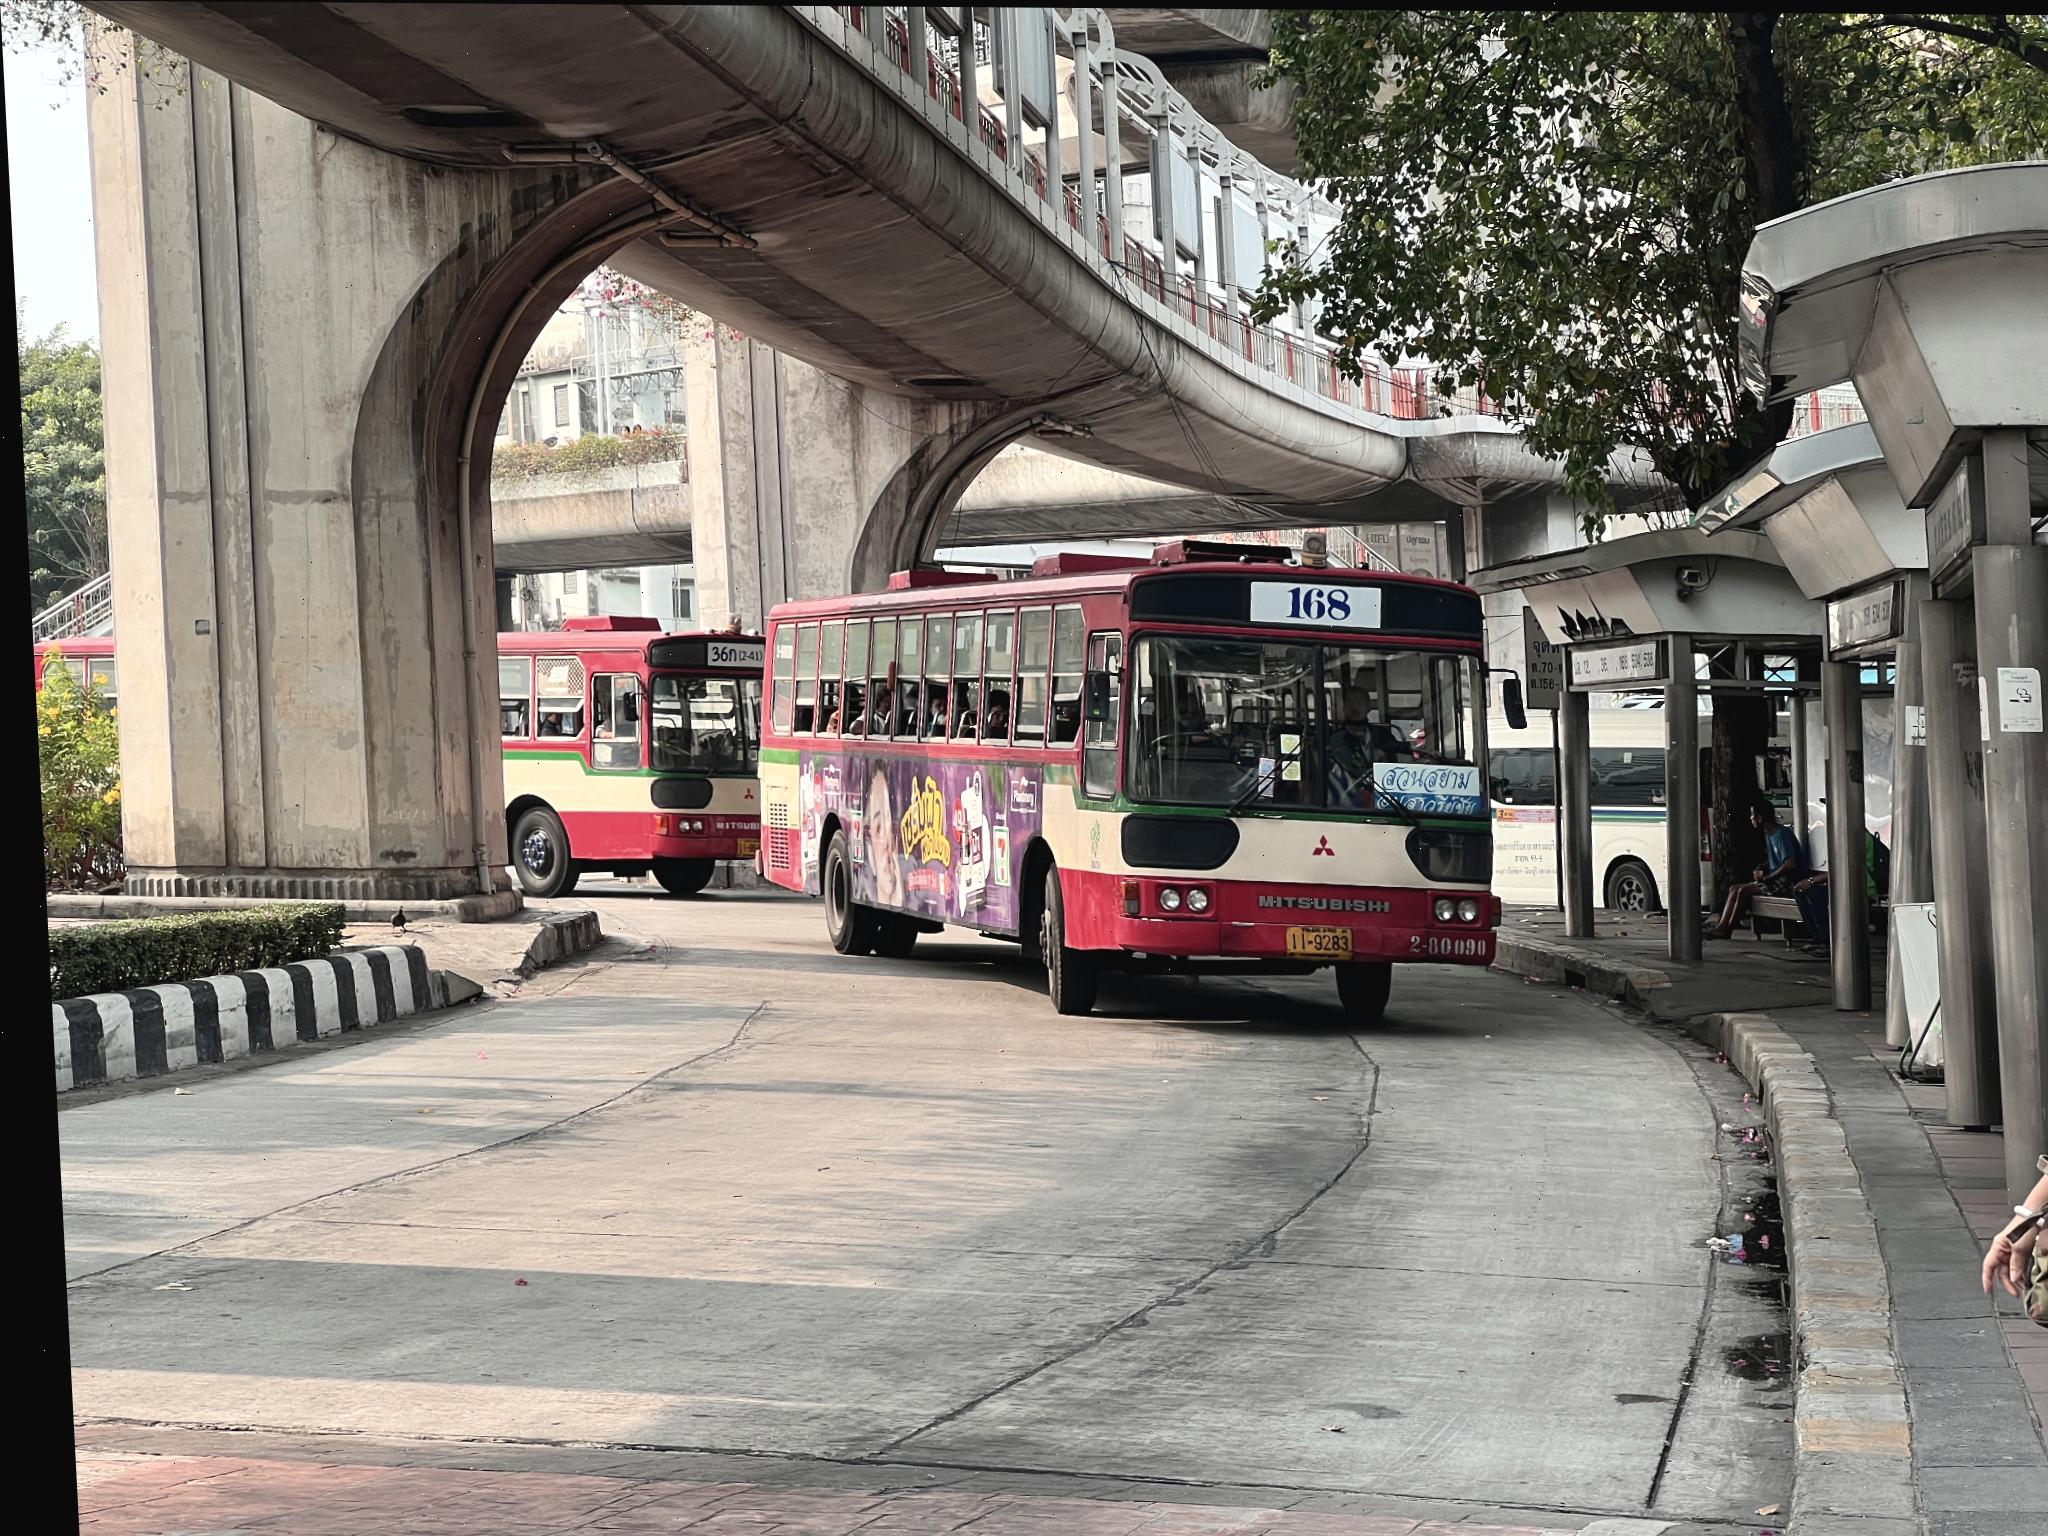BMTA-bus: (748, 526, 1495, 1026), (489, 616, 764, 905)
Bus Line Number: (1247, 579, 1376, 626), (700, 636, 758, 668)
Bus Side Number: (1397, 926, 1484, 960)
Destination Sign: (1366, 758, 1477, 813)
